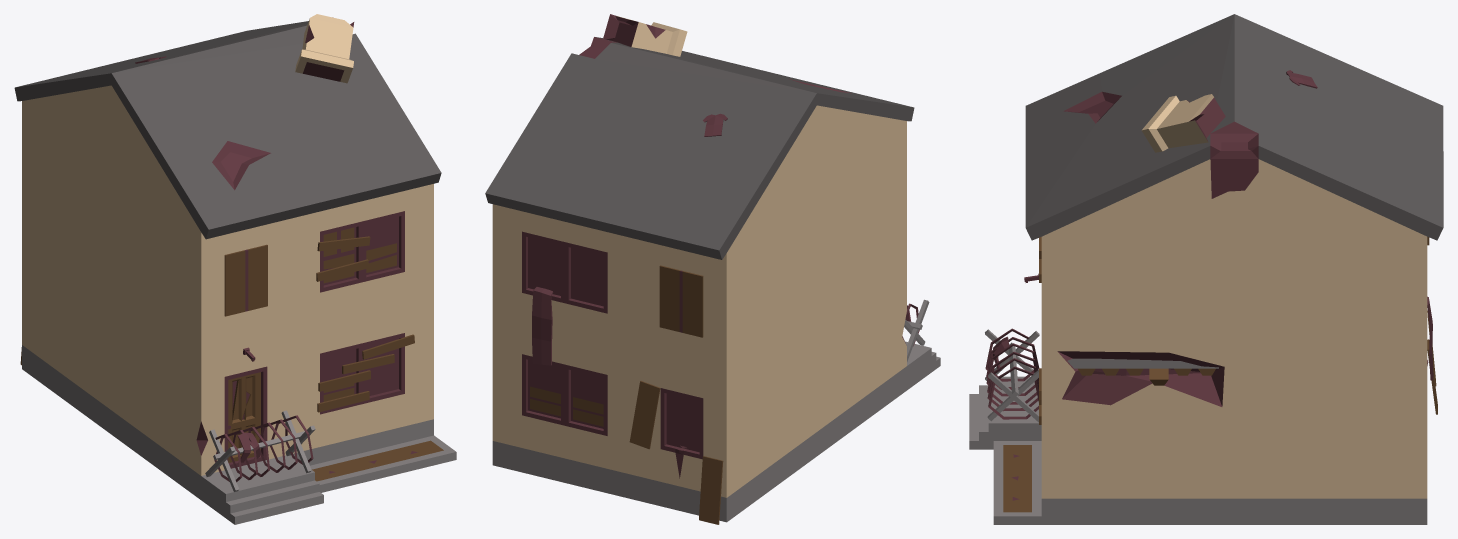
Rendered from building-house-block-apocalypse.fbx.
The picture shows the model from 3 angles, left to right: view 1: azimuth 30°, elevation 25°; view 2: azimuth 150°, elevation 25°; view 3: azimuth 270°, elevation 25°; orthographic projection. The views are drawn at different scales.
Visible parts, largest first — view 1: building-house-block-apocalypse-main, building-house-block-apocalypse-props; view 2: building-house-block-apocalypse-main, building-house-block-apocalypse-props; view 3: building-house-block-apocalypse-main, building-house-block-apocalypse-props.
Part boxes in pixels (x1,y1,x2,y2): building-house-block-apocalypse-main: [14, 21, 456, 524]; building-house-block-apocalypse-props: [135, 14, 414, 491]; building-house-block-apocalypse-main: [485, 37, 940, 524]; building-house-block-apocalypse-props: [603, 14, 929, 361]; building-house-block-apocalypse-main: [969, 14, 1443, 524]; building-house-block-apocalypse-props: [985, 70, 1317, 424].
Bounding box in the file's own units: 6.2 × 9.35 × 9.84.
